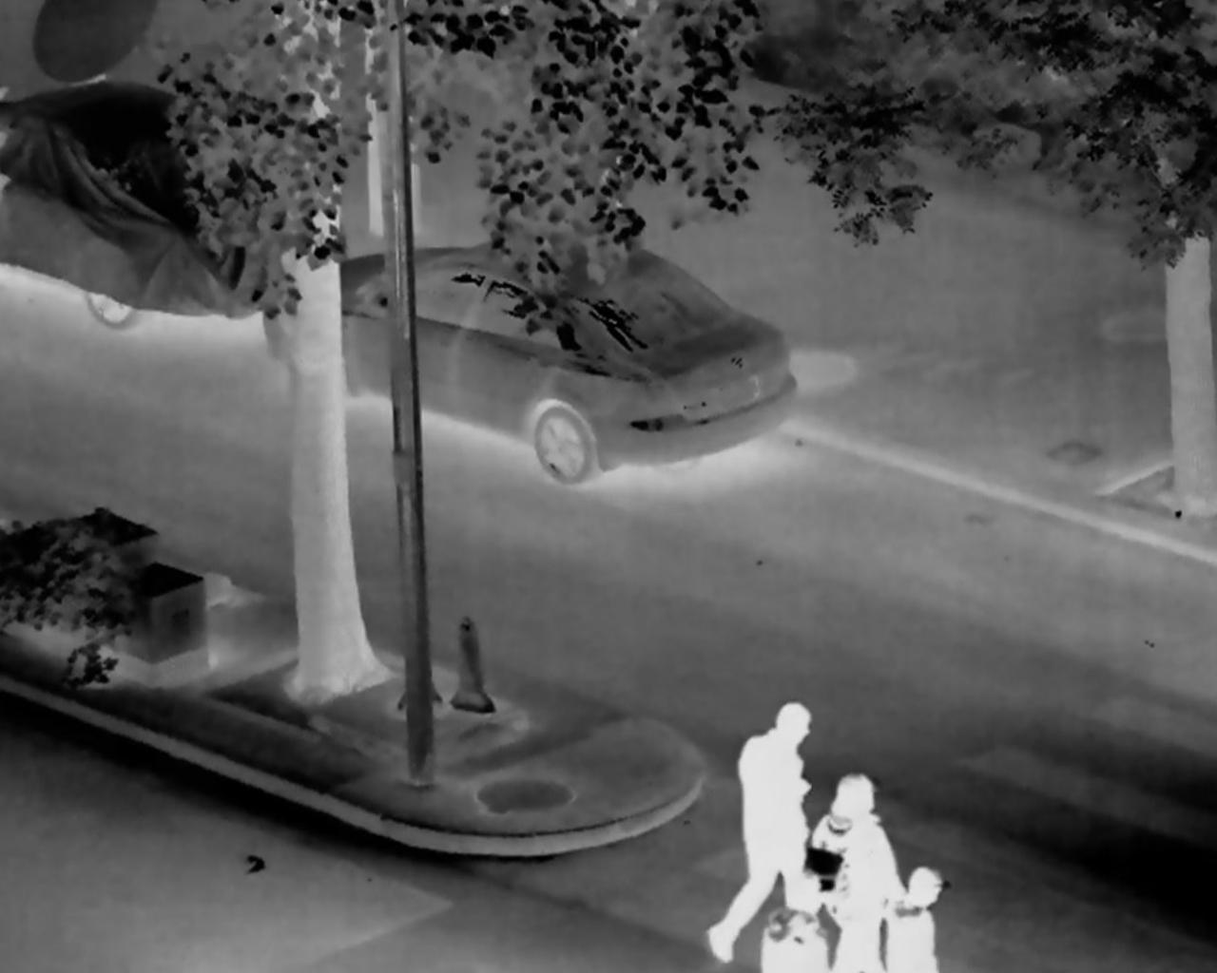person: (707, 701, 819, 961), (810, 769, 897, 973), (885, 865, 941, 973), (759, 906, 831, 973)
